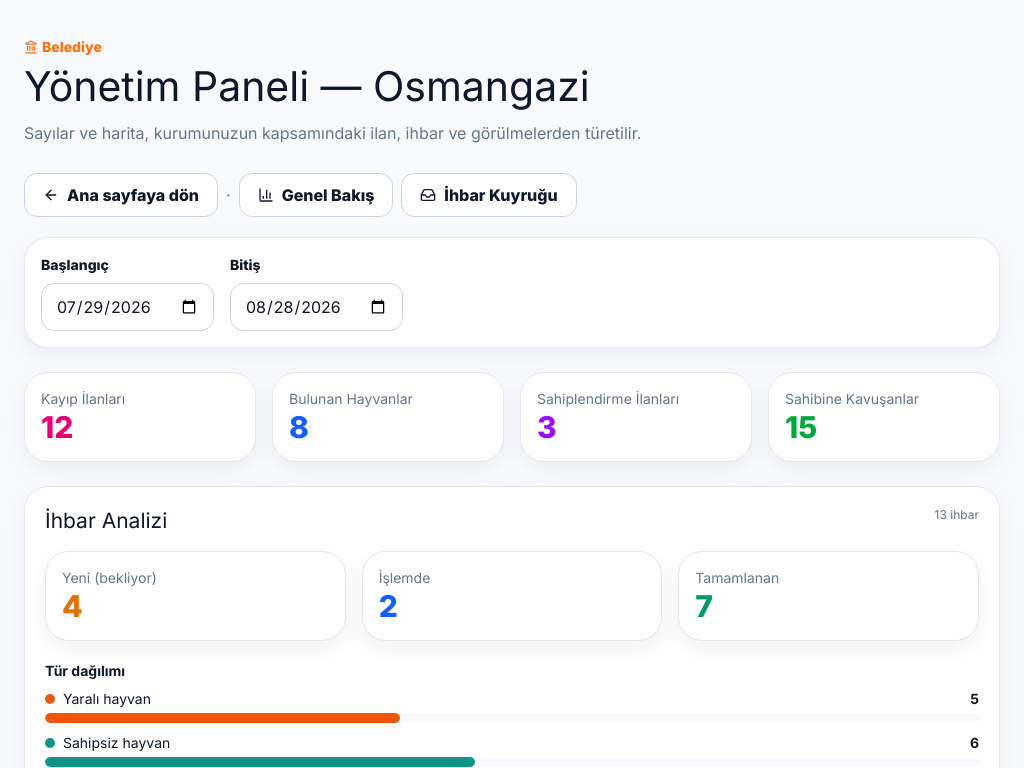
MunicipalityDashboardPage › başlangıç bitişten sonraysa uyarır ve istek ATMAZ
expect the heading "Yönetim Paneli — Osmangazi" is shown: met, box [24,61,590,111]
Type "2099-01-01" into the date field labelled "Başlangıç" at (128, 307), box [41,283,214,331]
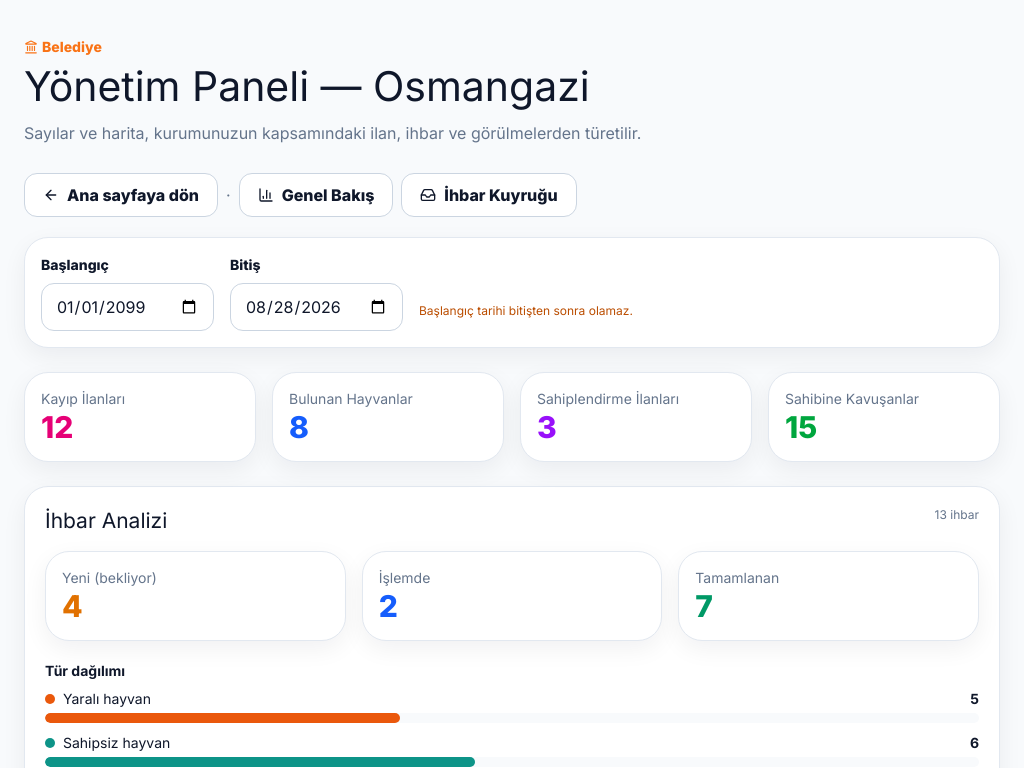
expect the text "Başlangıç tarihi bitişten sonra olamaz." is shown: met, box [419,303,633,318]
